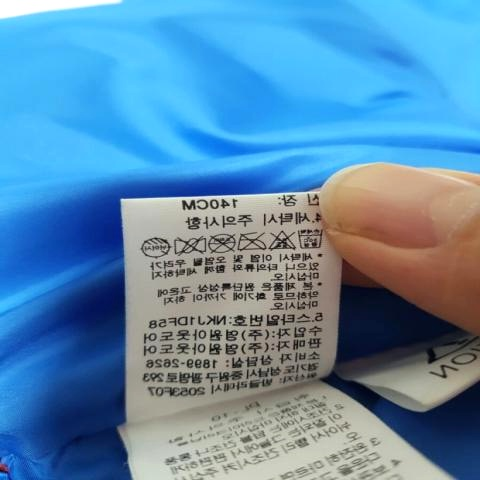30C: (296, 225, 325, 254)
DN_dry_clean: (203, 229, 237, 255)
DN_iron: (233, 225, 269, 253)
DN_wring: (170, 232, 206, 257)
dry_flat_in_shade: (135, 232, 171, 259)
non_chlorine_bleach: (265, 224, 297, 255)
